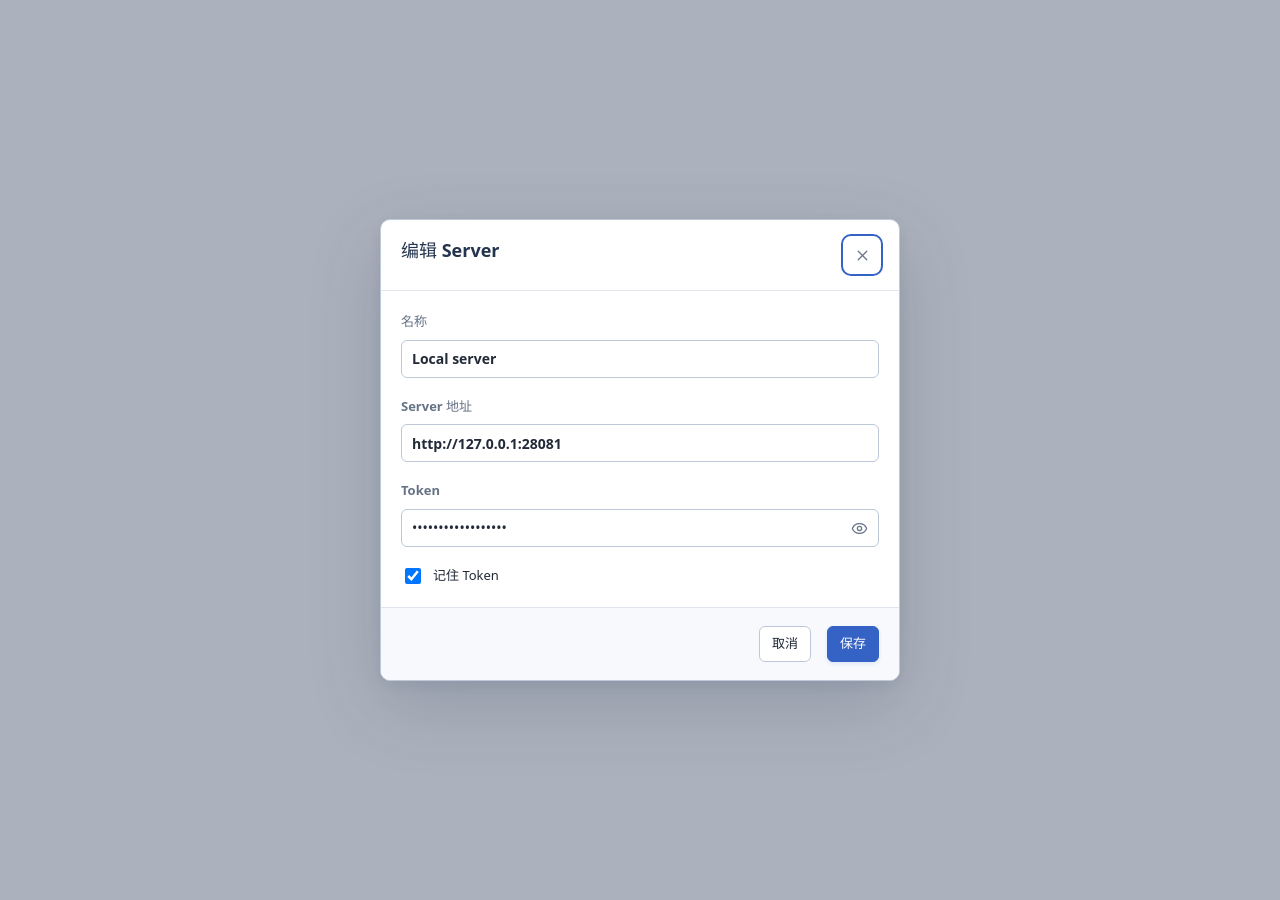
Test: toggles token visibility without changing or saving the token (server: {"id":"server","name":"Local server","base_url":"http://127.0.0.1:28081","remember_passwo
Type "updated-secret-token" into the password field labelled "Token".
click(640, 528); type("updated-secret-token")  # box [401,509,879,547]
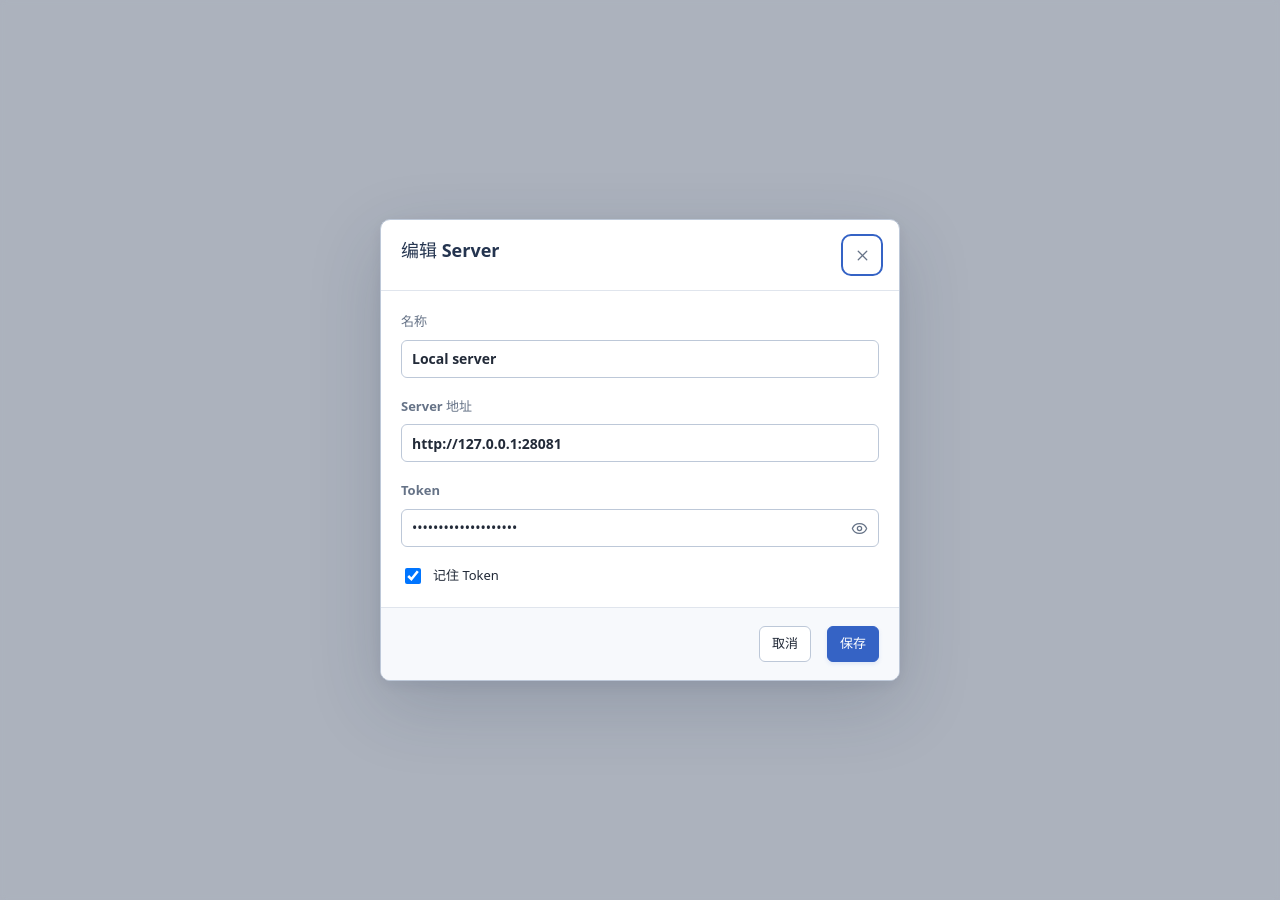
Click the button named "显示 Token".
click(859, 529)  # box [842,512,876,546]
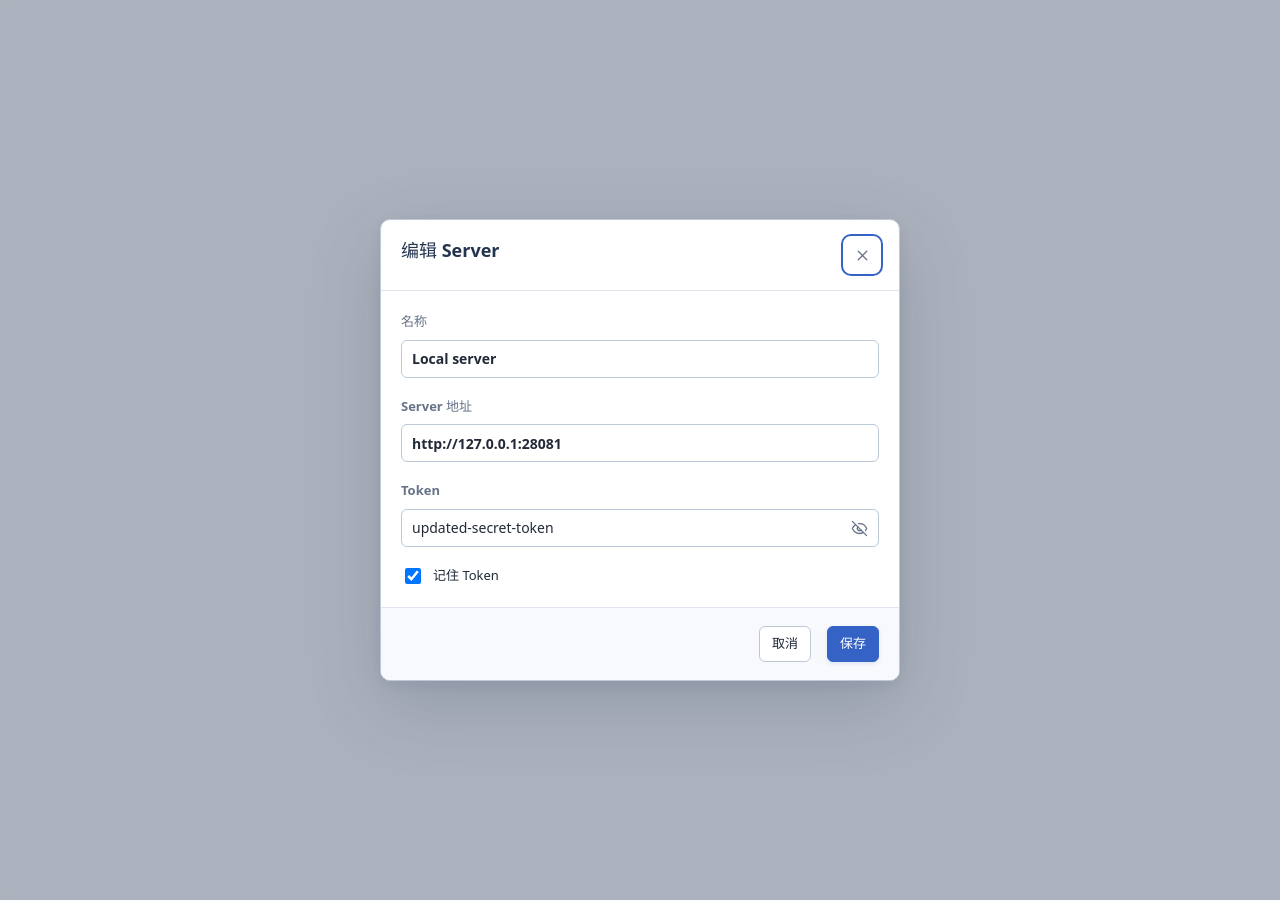
Expected: the field labelled "Token" shows its text, [401,509,879,547]
Click the button named "隐藏 Token".
click(859, 529)  # box [842,512,876,546]
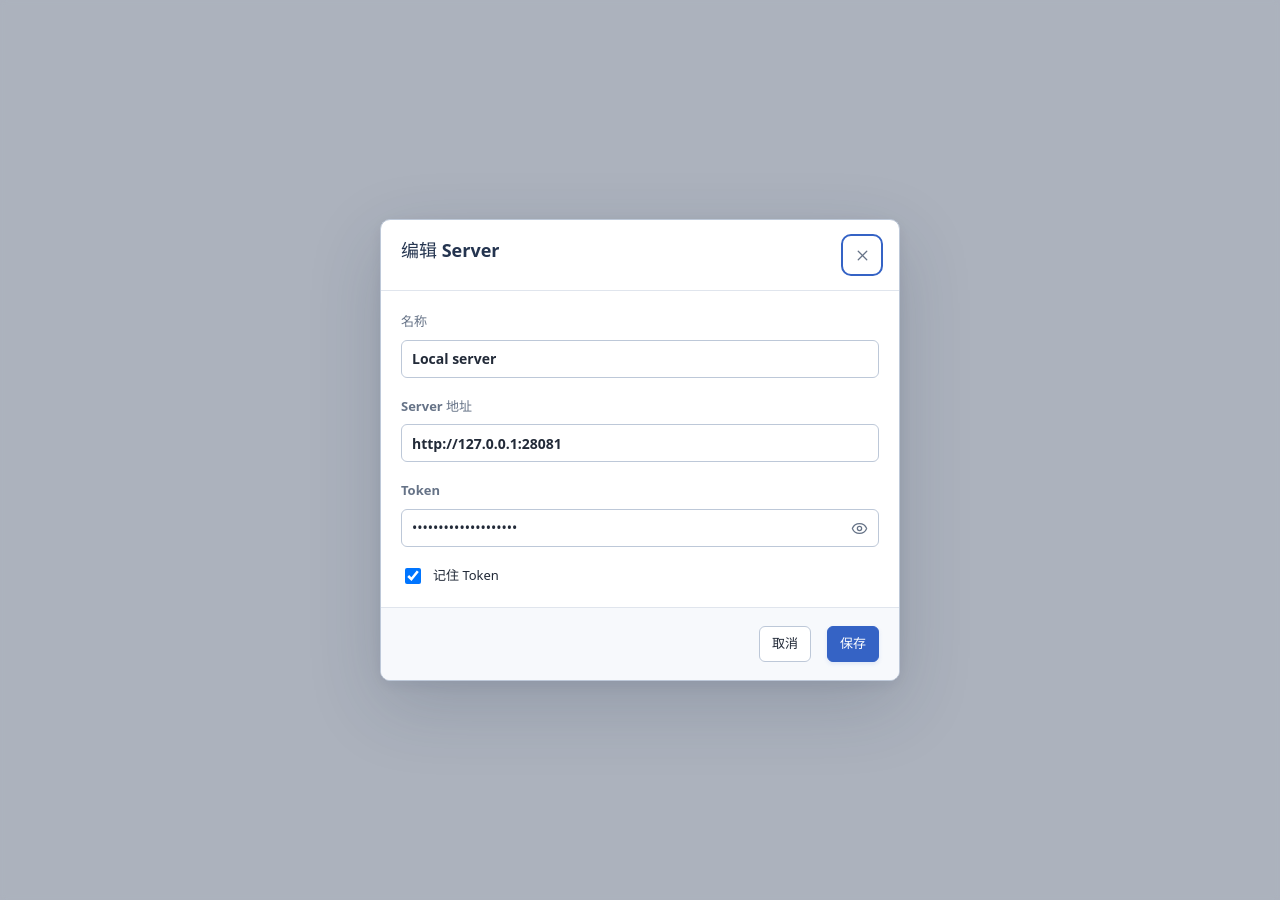
Expected: the password field labelled "Token" hides its text, [401,509,879,547]
